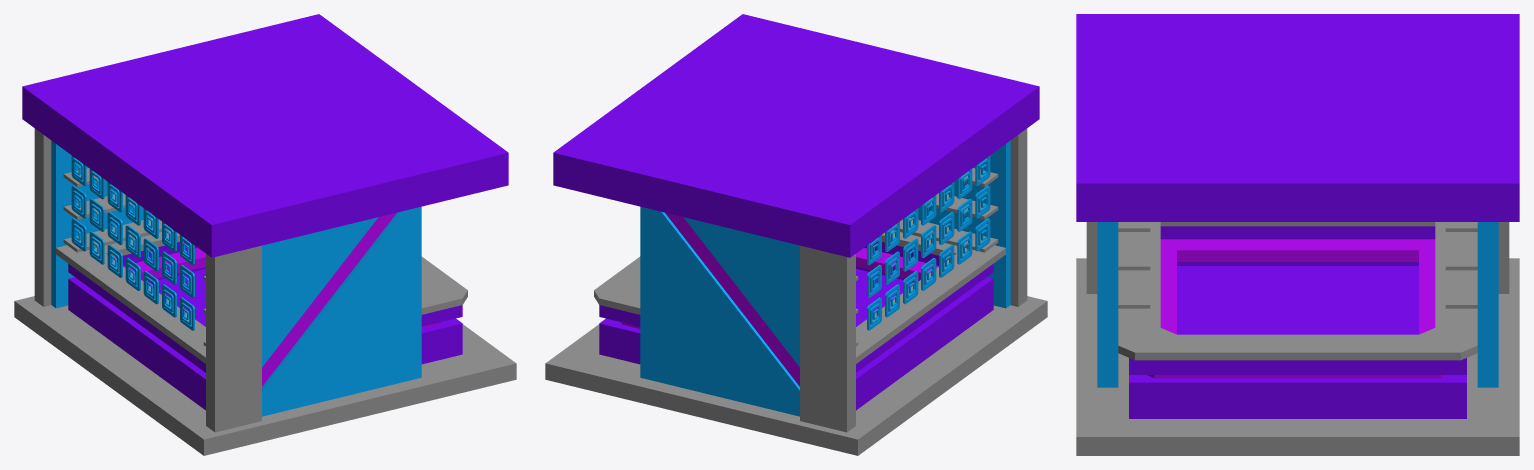
The model's file is Estructura.fbx.
3 renders of one model, left to right at view 1: azimuth 30°, elevation 25°; view 2: azimuth 150°, elevation 25°; view 3: azimuth 270°, elevation 25°, orthographic. The views are drawn at different scales.
Parts seen in each view (by area): view 1: Cube.003, Cube.005, Cube, Cube.001, Cube.079, Cube.002, Cube.004, Cube.078, Cube.077, Cube.075, Cube.011; view 2: Cube.003, Cube.004, Cube, Cube.001, Cube.078, Cube.002, Cube.005, Cube.079, Cube.076, Cube.075, Cube.013; view 3: Cube.003, Cube.001, Cube, Cube.002, Cube.075, Cube.004, Cube.005, Cube.011, Cube.013, Cube.010, Cube.014, Cube.078 (+1 smaller).
Boxes of the visible parts, x1,y1,x2,y2 form: Cube.003: [22, 14, 508, 257]; Cube.005: [262, 206, 421, 416]; Cube: [14, 296, 516, 455]; Cube.001: [68, 240, 462, 410]; Cube.079: [206, 245, 261, 432]; Cube.002: [56, 230, 467, 363]; Cube.004: [51, 140, 154, 308]; Cube.078: [34, 128, 51, 306]; Cube.077: [262, 212, 396, 386]; Cube.075: [123, 248, 440, 328]; Cube.011: [63, 218, 172, 252]; Cube.003: [553, 14, 1039, 257]; Cube.004: [640, 206, 799, 416]; Cube: [545, 296, 1047, 455]; Cube.001: [599, 240, 993, 410]; Cube.078: [800, 245, 855, 432]; Cube.002: [594, 230, 1005, 363]; Cube.005: [907, 140, 1010, 308]; Cube.079: [1010, 128, 1027, 306]; Cube.076: [665, 212, 799, 386]; Cube.075: [621, 248, 938, 328]; Cube.013: [889, 218, 998, 252]; Cube.003: [1076, 14, 1519, 221]; Cube.001: [1129, 226, 1466, 418]; Cube: [1076, 258, 1519, 455]; Cube.002: [1118, 222, 1477, 360]; Cube.075: [1147, 239, 1448, 378]; Cube.004: [1477, 222, 1498, 387]; Cube.005: [1097, 222, 1118, 387]; Cube.011: [1445, 270, 1477, 308]; Cube.013: [1118, 270, 1150, 308]; Cube.010: [1445, 232, 1477, 270]; Cube.014: [1118, 232, 1150, 270]; Cube.078: [1498, 222, 1509, 293].
Size of the model in its own units: 1000 by 700 by 1050.
